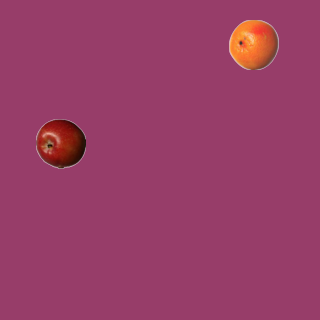Apple Braeburn: (35, 118, 85, 168)
Grapefruit Pink: (228, 19, 278, 69)
